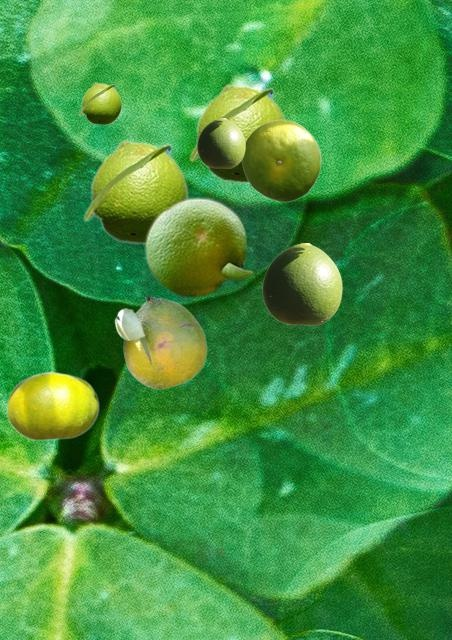dalandan: (143, 195, 254, 297), (82, 139, 188, 244), (188, 83, 286, 183), (114, 297, 206, 388), (241, 119, 320, 201), (262, 243, 341, 324), (6, 371, 98, 440), (197, 118, 244, 167), (78, 82, 121, 124)
